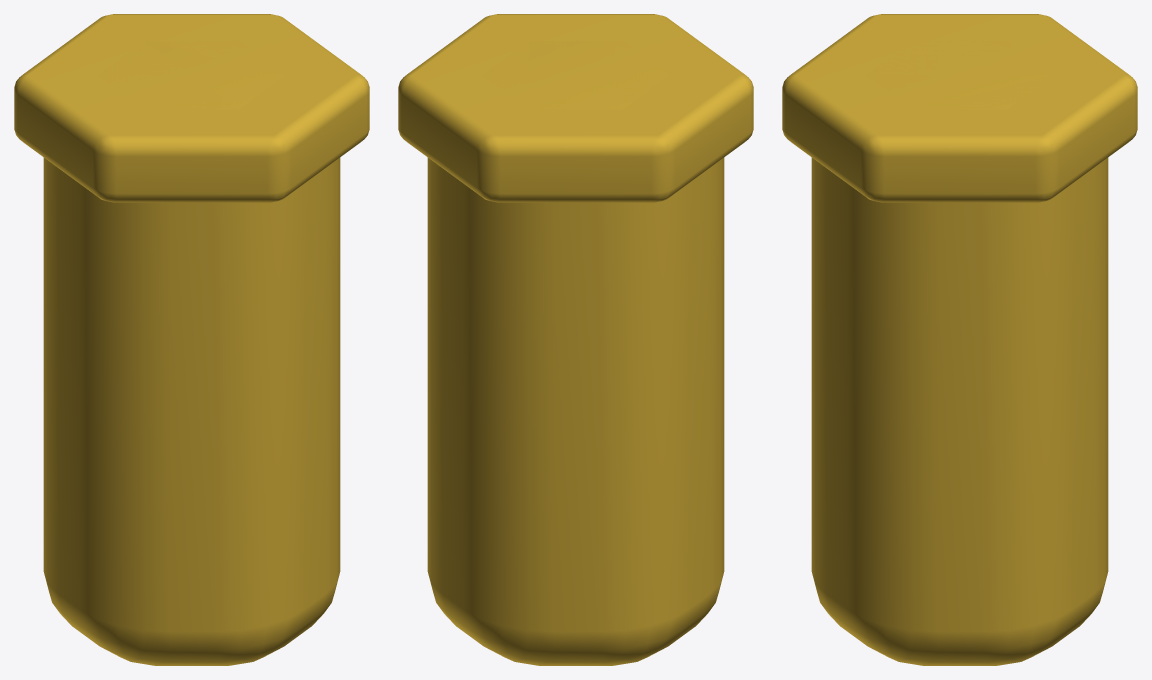
3 renders of one model, left to right at view 1: azimuth 30°, elevation 25°; view 2: azimuth 150°, elevation 25°; view 3: azimuth 270°, elevation 25°, orthographic.
Visible parts, largest first — view 1: part_002; view 2: part_002; view 3: part_002.
Part boxes in pixels (x1,y1,x2,y2): part_002: (14, 14, 369, 665); part_002: (398, 14, 753, 665); part_002: (782, 14, 1137, 665).
Bounding box in the file's own units: 0.1039 × 0.2 × 0.1169.
